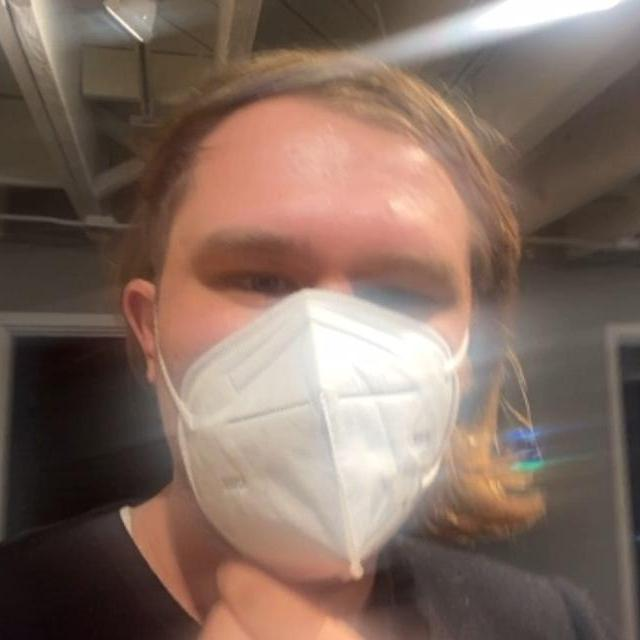Mask: (151, 292, 470, 598)
NO-Hardhat: (142, 51, 476, 233)
NO-Safety Vest: (0, 529, 599, 640)
Person: (0, 48, 640, 640)
